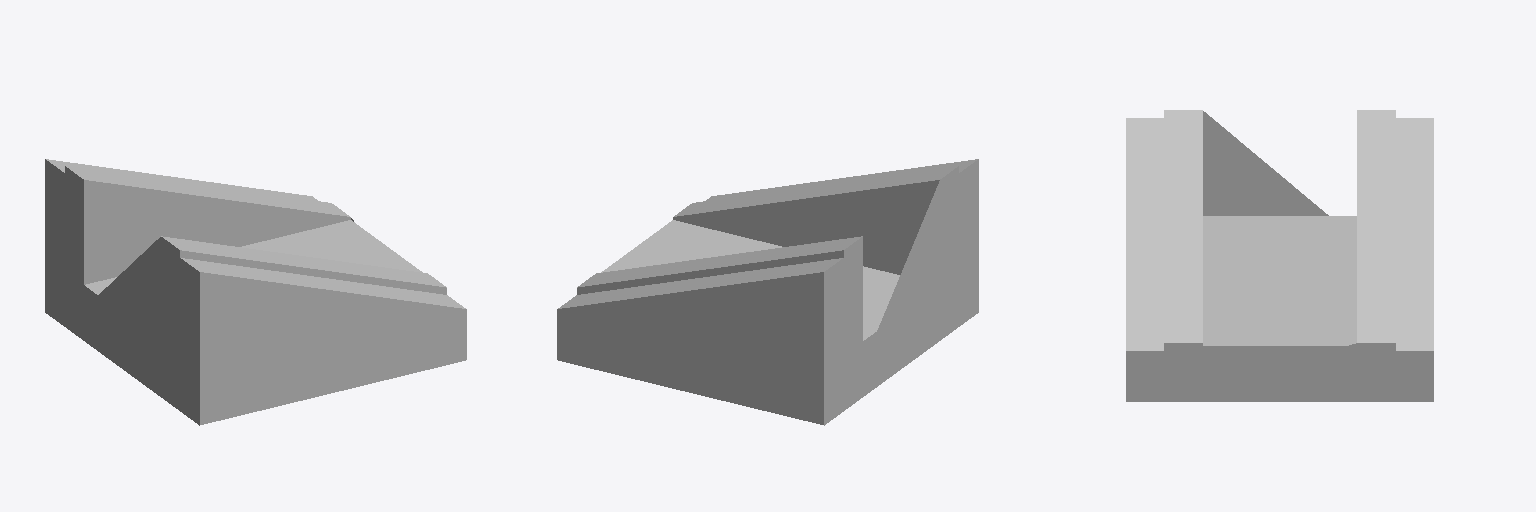
The model's file is roadTile_231.obj.
The picture shows the model from 3 angles: view 1: azimuth 30°, elevation 25°; view 2: azimuth 150°, elevation 25°; view 3: azimuth 270°, elevation 25°; orthographic projection.
Visible parts, largest first — view 1: Mesh1 Group1 Model; view 2: Mesh1 Group1 Model; view 3: Mesh1 Group1 Model.
Part boxes in pixels (bbox=[...]): Mesh1 Group1 Model: bbox=[45, 159, 466, 425]; Mesh1 Group1 Model: bbox=[557, 159, 978, 425]; Mesh1 Group1 Model: bbox=[1126, 110, 1433, 401].
Size of the model in its own units: 3 by 1.73 by 3.